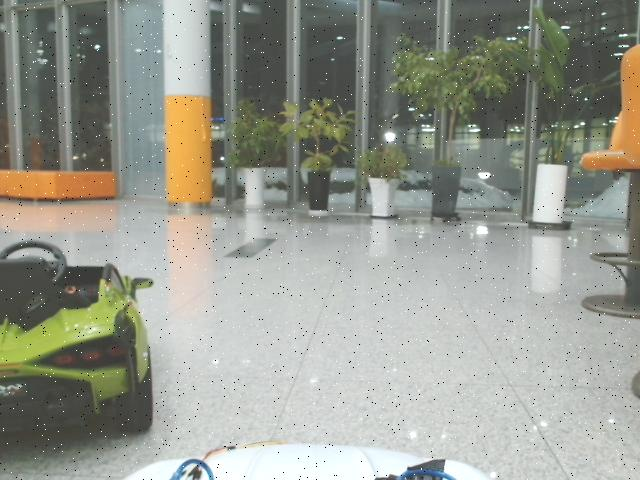car: (1, 240, 152, 451)
